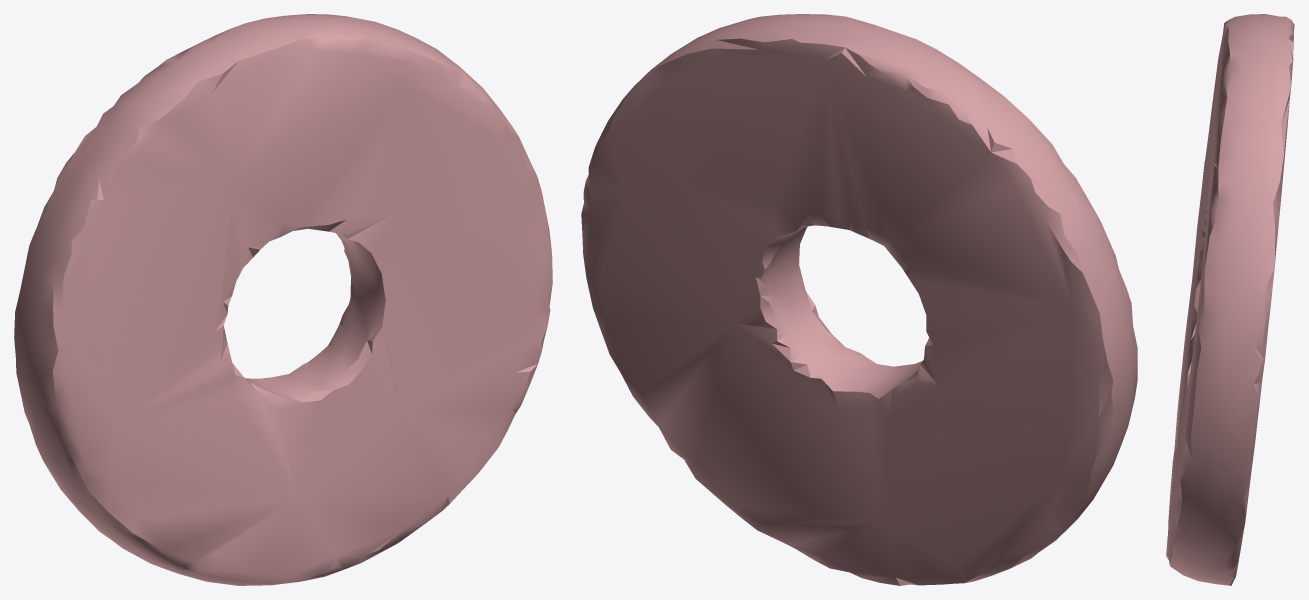
The model's file is fma58673_mm2185.glb.
The picture shows the model from 3 angles, left to right: view 1: azimuth 30°, elevation 25°; view 2: azimuth 150°, elevation 25°; view 3: azimuth 270°, elevation 25°; orthographic projection. The views are drawn at different scales.
Visible parts, largest first — view 1: FMA58673_MM2185; view 2: FMA58673_MM2185; view 3: FMA58673_MM2185.
Boxes of the visible parts, bbox=[...] form: FMA58673_MM2185: bbox=[14, 14, 552, 585]; FMA58673_MM2185: bbox=[581, 14, 1137, 585]; FMA58673_MM2185: bbox=[1166, 14, 1294, 585].
Size of the model in its own units: 0.00545 by 0.00545 by 0.00122.
